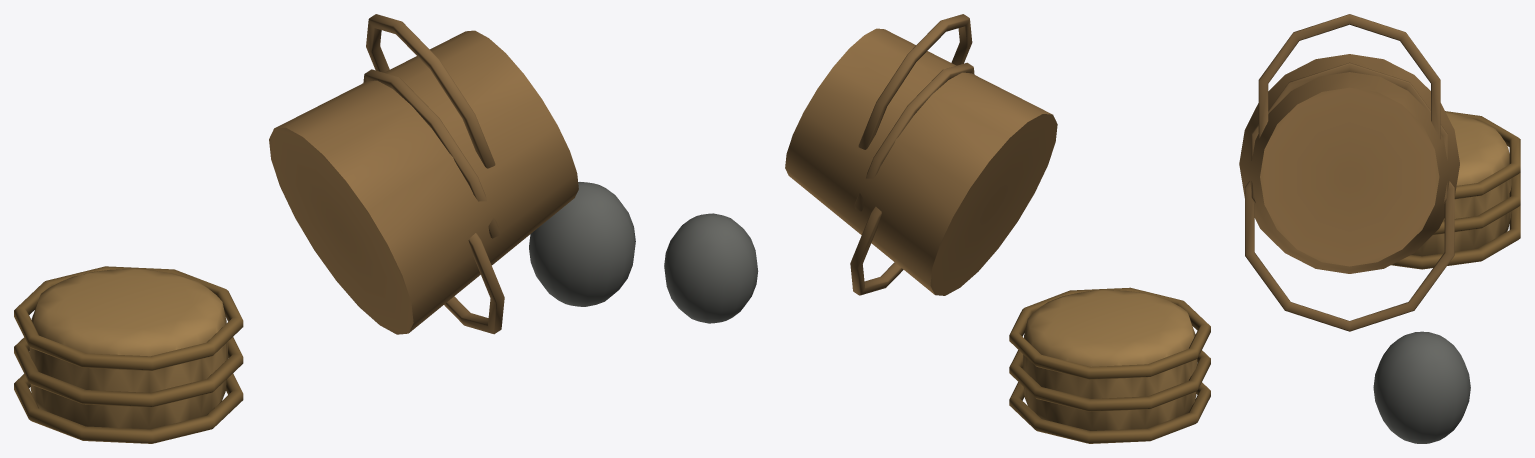
File: rope_basket_b.glb
The picture shows the model from 3 angles, left to right: view 1: azimuth 30°, elevation 25°; view 2: azimuth 150°, elevation 25°; view 3: azimuth 270°, elevation 25°; orthographic projection. The views are drawn at different scales.
Parts seen in each view (by area): view 1: Surface; view 2: Surface; view 3: Surface.
Part boxes in pixels (bbox=[...]): Surface: bbox=[14, 14, 635, 443]; Surface: bbox=[664, 14, 1210, 443]; Surface: bbox=[1239, 14, 1520, 443].
Bounding box in the file's own units: 1.72 × 1 × 0.7767.
